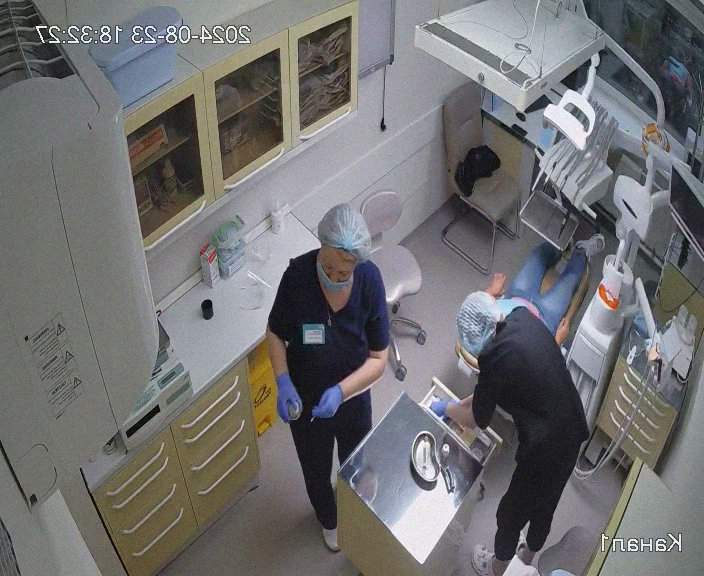Patient: (456, 235, 608, 380)
